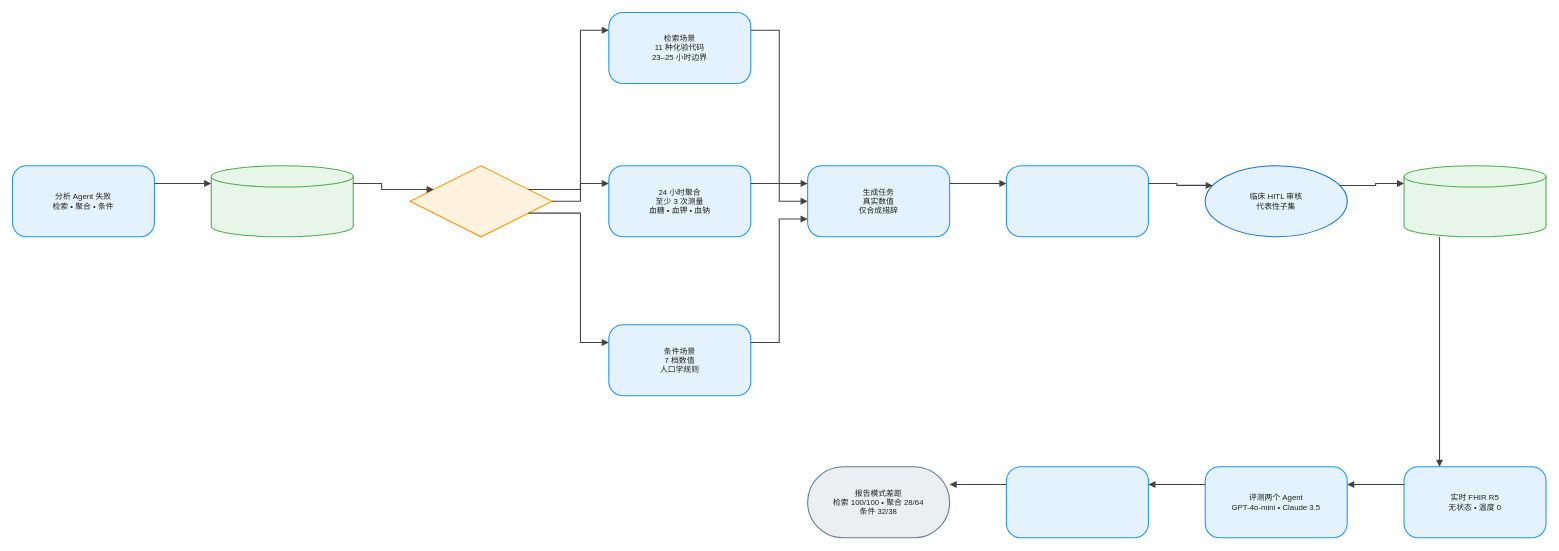
The diagram is 1559 pixels wide and 551 high, and some of its shapes have lost their labels. The shapes that lost their labels are listed below. From the top down, each one's box as (x1, y1, x2, y2) in pixels, then its label:
(210, 165, 353, 237): 挖掘真实 EHR 5 万记录 • 695 患者 保留数值与时间
(409, 165, 552, 237): 选择失败模式
(1006, 165, 1149, 237): 源 EHR 验证 纳入前验证 数值 • 时间 • 规则
(1403, 165, 1546, 237): 平衡 ART 集 每类 200 • 共 600
(1006, 466, 1149, 538): 精确匹配成功率 对照 EHR 标准答案
